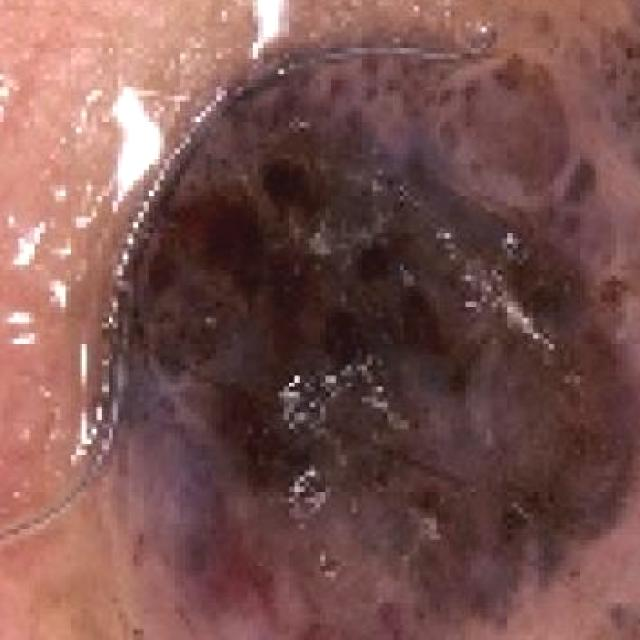MEL: (36, 0, 640, 640)
